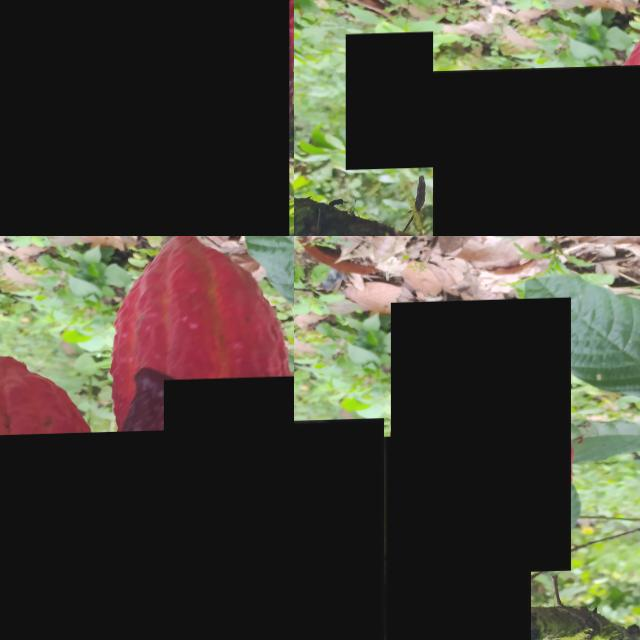Monilia: (0, 0, 289, 236), (433, 67, 640, 236)
Sana: (391, 301, 571, 578), (0, 432, 168, 640), (163, 377, 294, 640), (384, 435, 530, 640), (294, 420, 384, 640), (346, 33, 433, 170), (312, 23, 368, 139), (510, 0, 640, 30)
